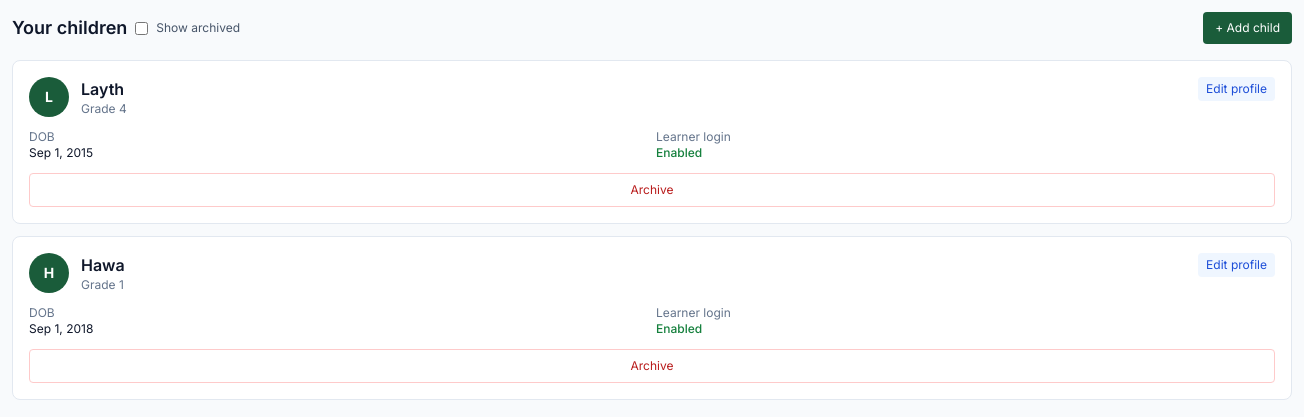
it: ChildList component › archiving a learner renders InlineConfirm attached to that card (not a top banner)
Click the button "Archive" below "Sep 1, 2015" at [652, 190], box left=29, top=173, right=1275, bottom=207
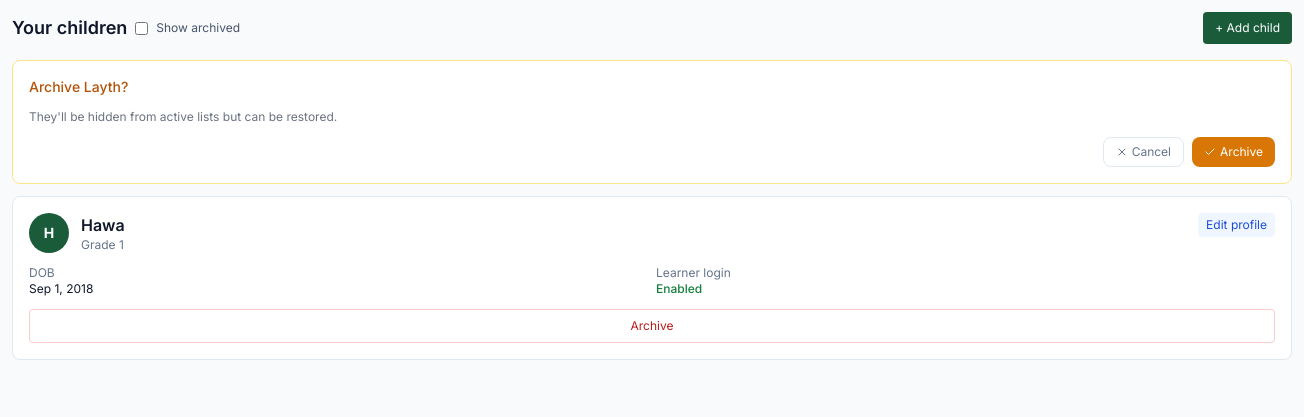
Expected: the heading "Hawa" is shown, left=81, top=213, right=125, bottom=237
Result: the text "They'll be hidden from active lists but can be restored." is shown at left=29, top=109, right=337, bottom=124
